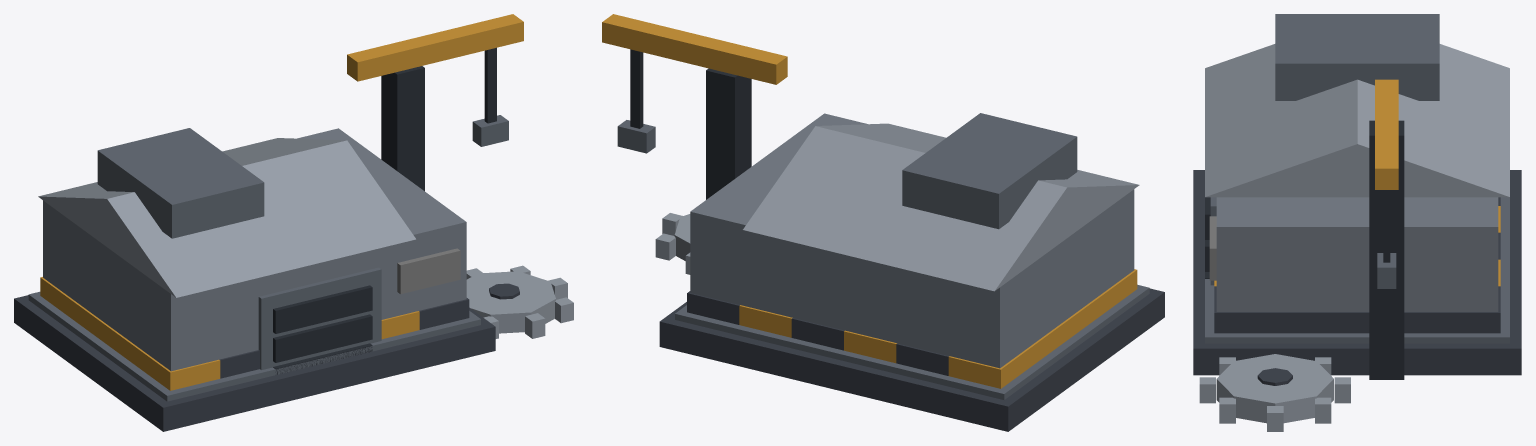
The model's file is machine-shop.obj.
The picture shows the model from 3 angles, left to right: view 1: azimuth 30°, elevation 25°; view 2: azimuth 150°, elevation 25°; view 3: azimuth 270°, elevation 25°; orthographic projection. The views are drawn at different scales.
Parts seen in each view (by area): view 1: machine-shop; view 2: machine-shop; view 3: machine-shop.
Boxes of the visible parts, x1,y1,x2,y2 form: machine-shop: (14,14,573,431); machine-shop: (602,14,1164,431); machine-shop: (1193,14,1521,431).
Bounding box in the file's own units: 9.6 × 5 × 5.6.
